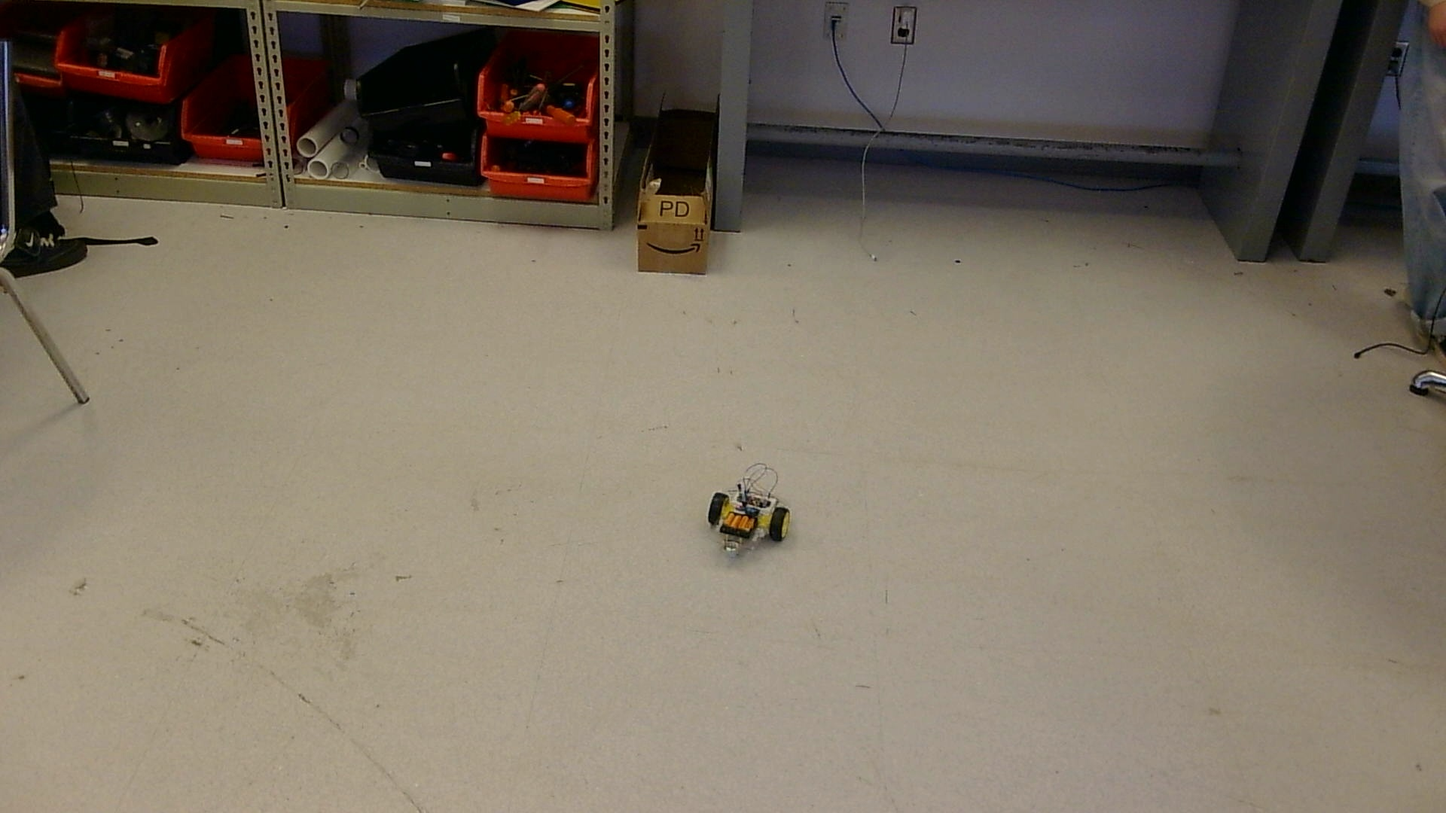robot: (707, 463, 791, 555)
